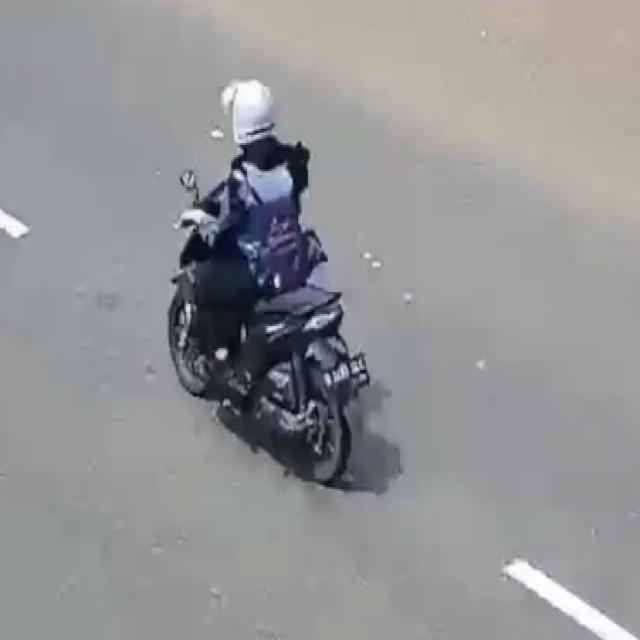helm: (219, 72, 288, 158)
motor: (134, 62, 409, 529)
spion: (172, 163, 205, 196)
